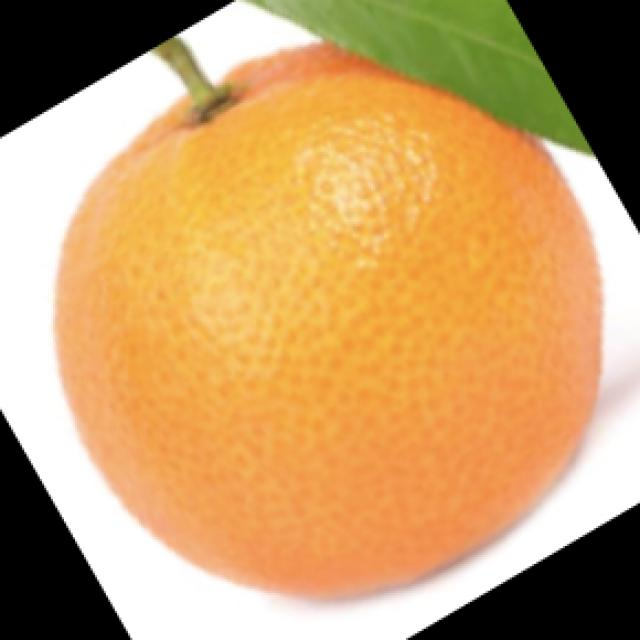fresh: (44, 34, 629, 611)
